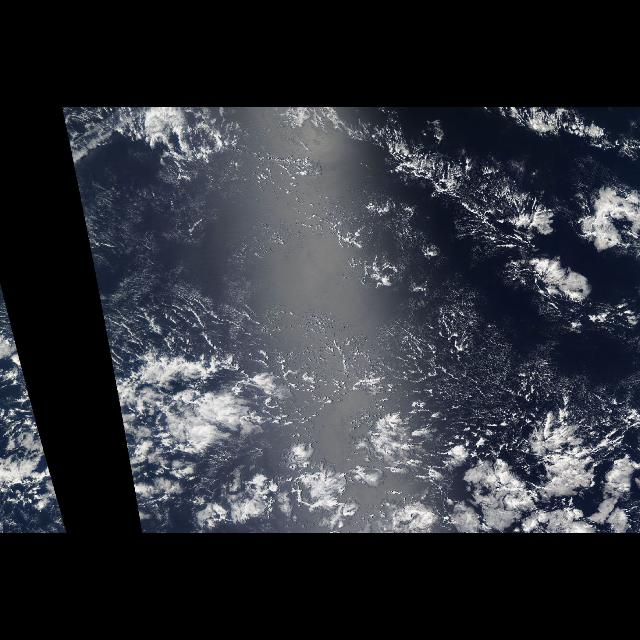Flower: (438, 108, 640, 360), (323, 402, 639, 534)
Sugar: (80, 162, 638, 422)
